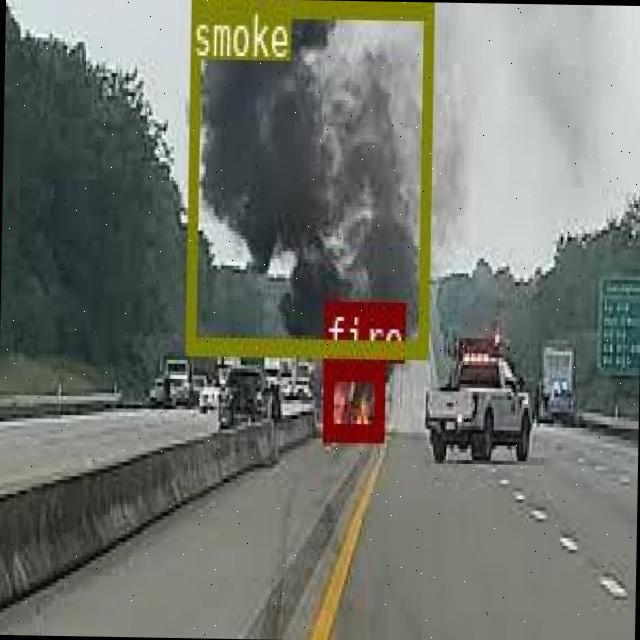fire: (321, 358, 381, 437)
smoke: (183, 0, 430, 352)
